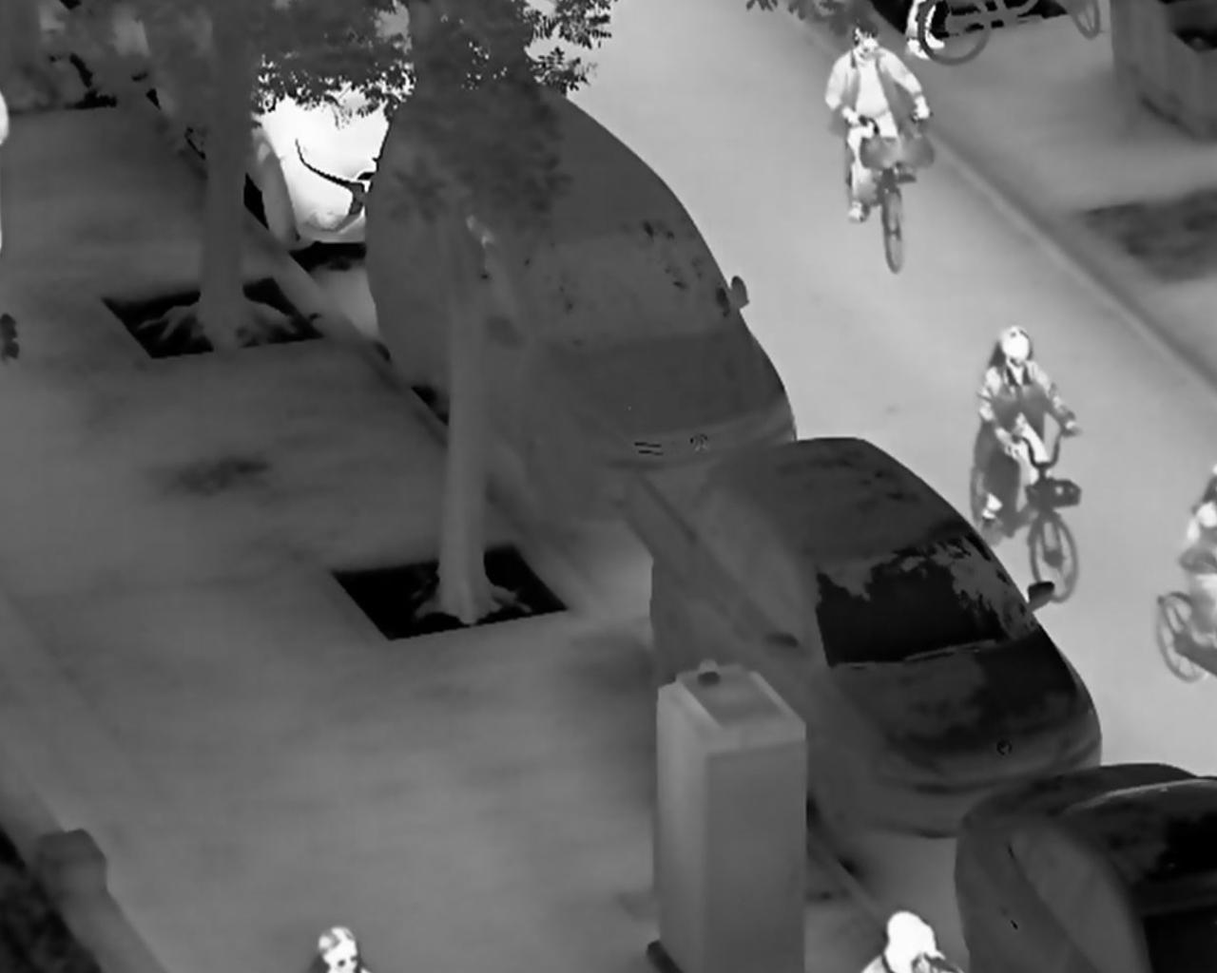person: (820, 19, 937, 224), (976, 323, 1085, 528)
